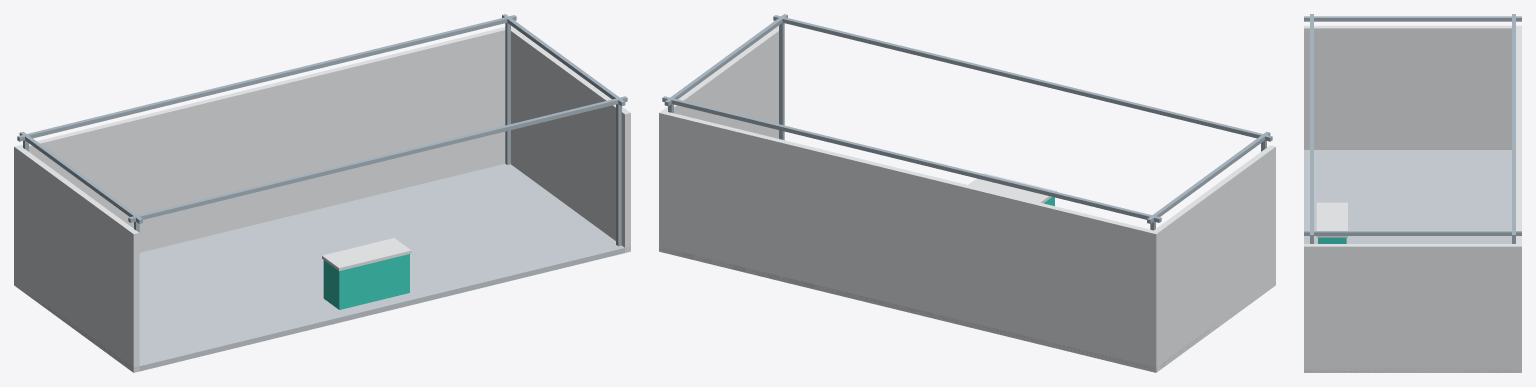
3 renders of one model, left to right at view 1: azimuth 30°, elevation 25°; view 2: azimuth 150°, elevation 25°; view 3: azimuth 270°, elevation 25°, orthographic. The views are drawn at different scales.
Parts seen in each view (by area): view 1: Exhibition Booth Concept; view 2: Exhibition Booth Concept; view 3: Exhibition Booth Concept.
Part boxes in pixels (x1,y1,x2,y2): Exhibition Booth Concept: (14,14,630,372); Exhibition Booth Concept: (659,14,1275,372); Exhibition Booth Concept: (1304,14,1521,372).
Bounding box in the file's own units: 12 × 3.49 × 5.
